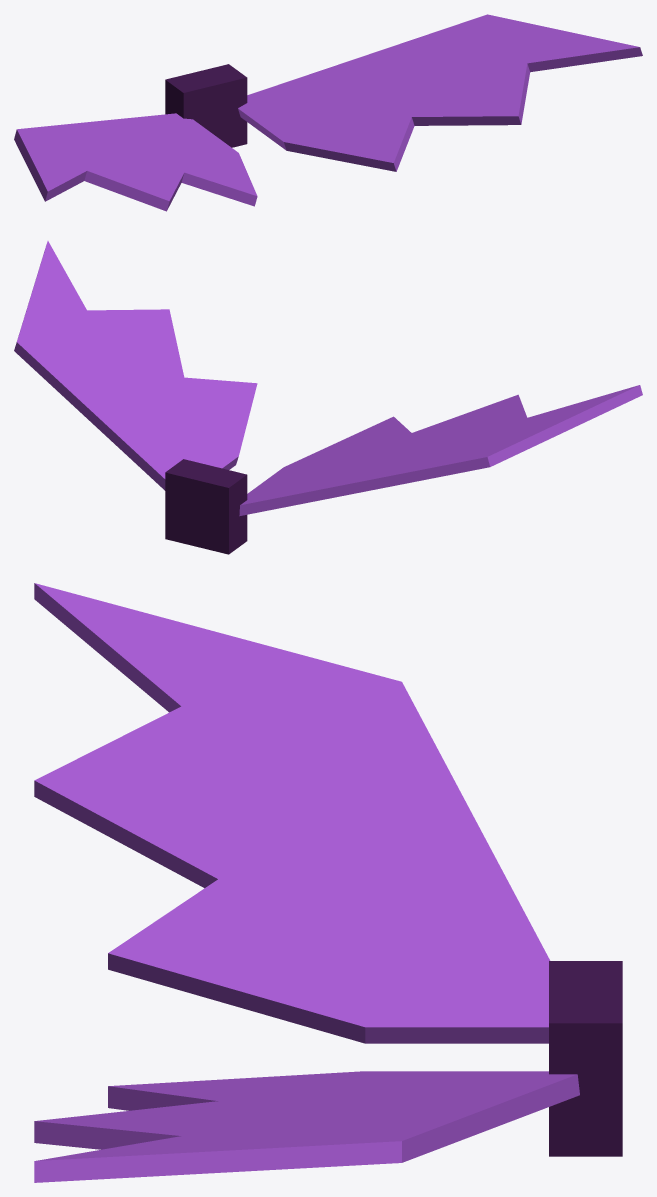
File: nebula_mantle.glb
The picture shows the model from 3 angles, top to bottom: view 1: azimuth 30°, elevation 25°; view 2: azimuth 150°, elevation 25°; view 3: azimuth 270°, elevation 25°; orthographic projection. The views are drawn at different scales.
Parts seen in each view (by area): view 1: nebula_mantle_v0; view 2: nebula_mantle_v0; view 3: nebula_mantle_v0.
Part boxes in pixels (x1=…): nebula_mantle_v0: x1=14, y1=14, x2=642, y2=211; nebula_mantle_v0: x1=14, y1=241, x2=642, y2=554; nebula_mantle_v0: x1=34, y1=583, x2=622, y2=1182.
Bounding box in the file's own units: 0.7514 × 0.1521 × 0.32.
